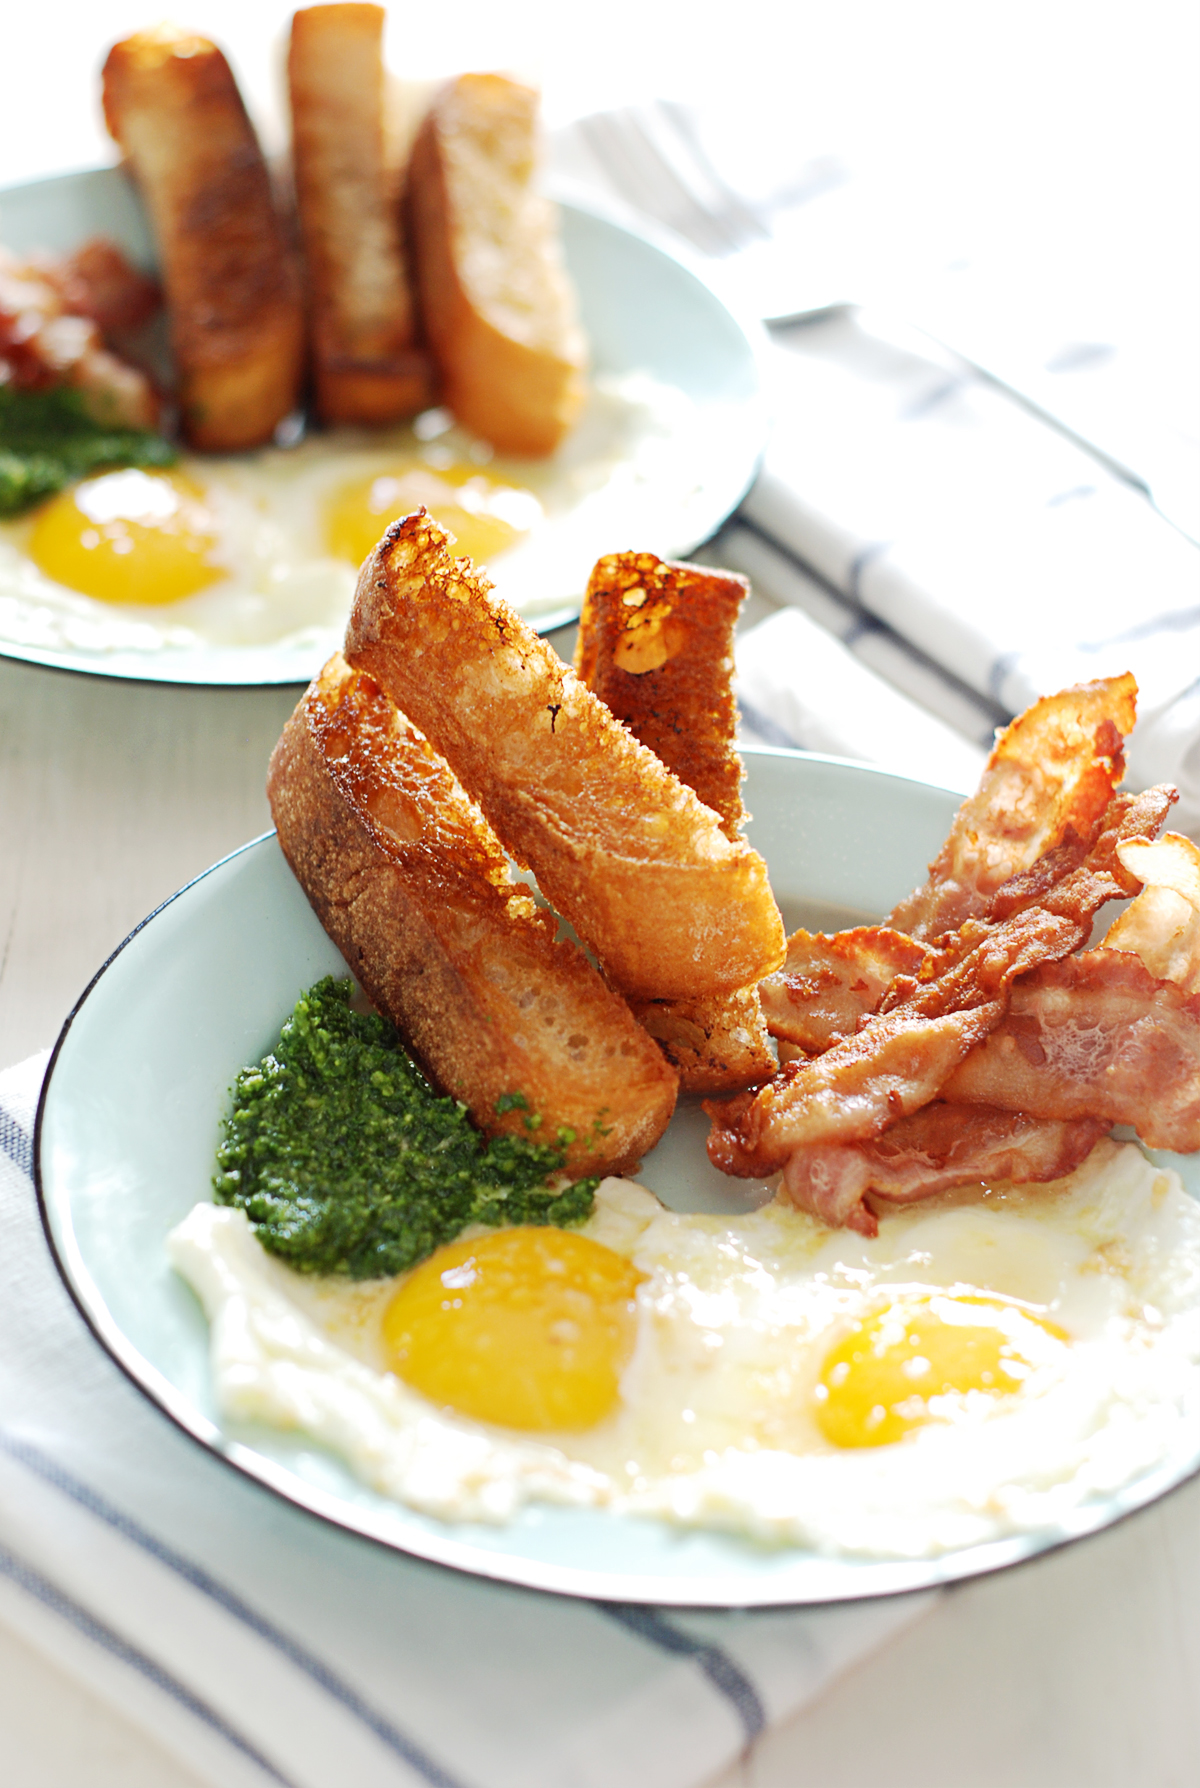fried egg: (370, 1191, 1059, 1515), (126, 466, 620, 567)
slice of bread: (299, 595, 735, 1118), (166, 29, 575, 366)
